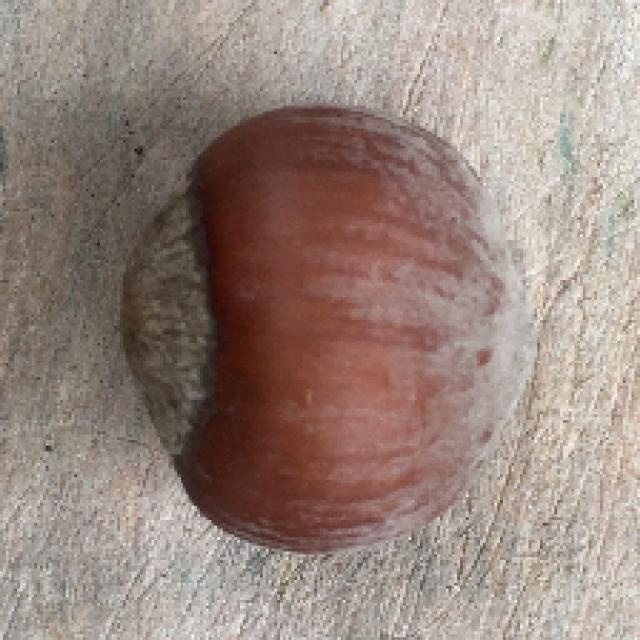qualityHazelnut: (119, 106, 546, 566)
